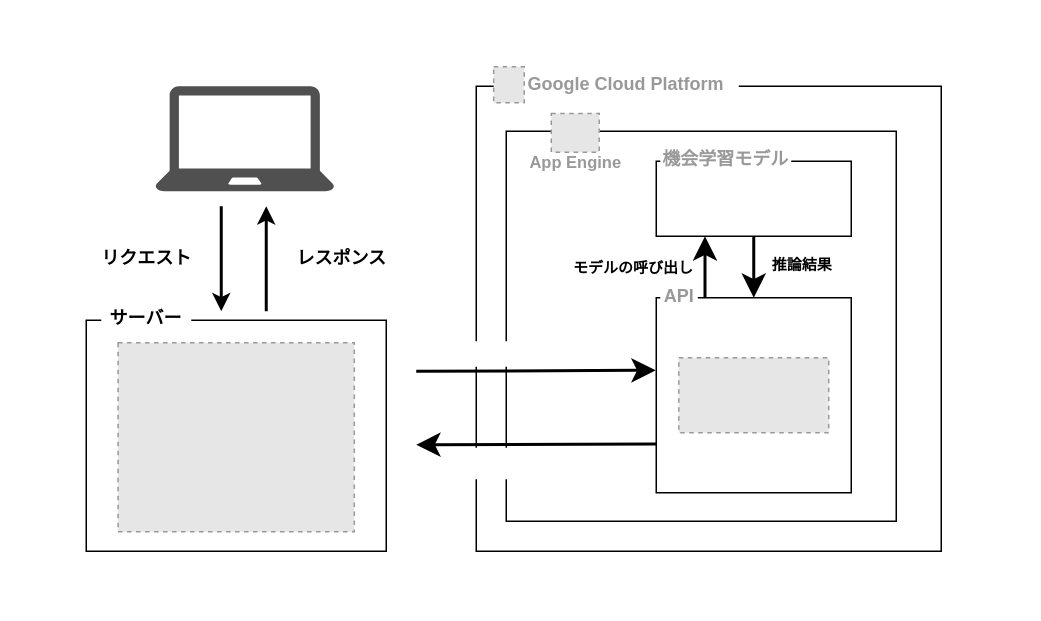
Image size: 1041x621. Some labels were removed from this diagram. Grey dashed boxes stand in for pictures. The centre of each missing label's shape, as x and y in pixels:
APIリクエスト: the point at 526,353
JSON: the point at 529,462
遺伝的アルゴリズム: the point at 753,198
